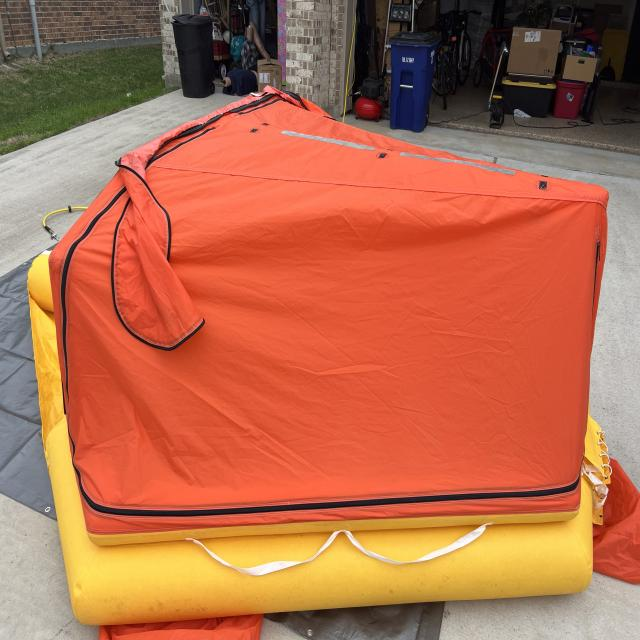Multi-person_life_raft: (27, 84, 640, 639)
